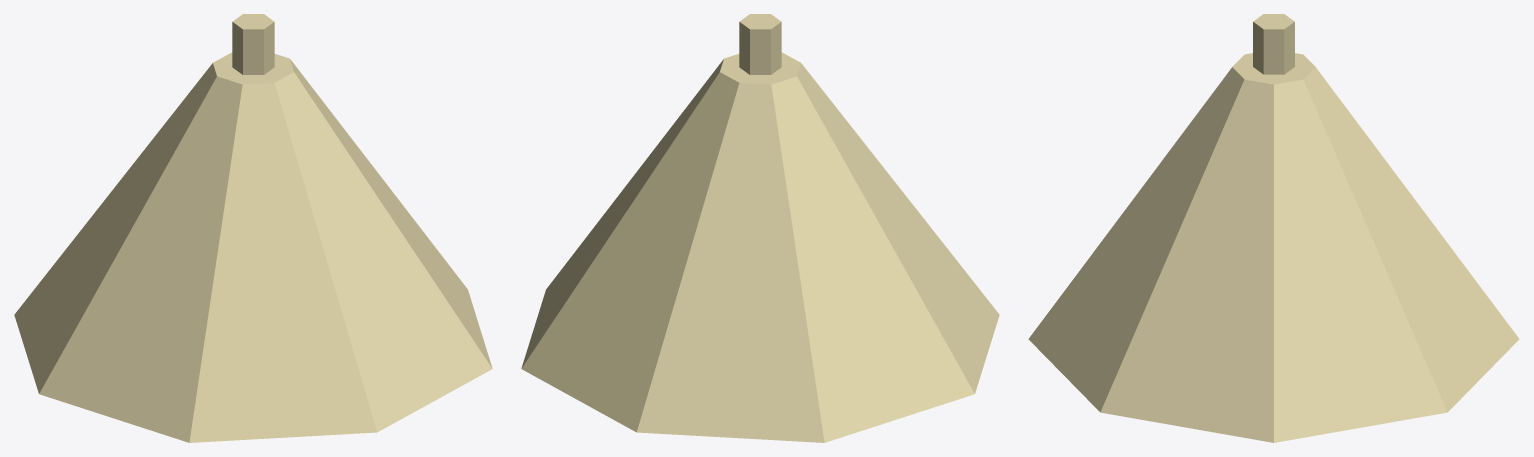
The model's file is bell.glb.
The picture shows the model from 3 angles, left to right: view 1: azimuth 30°, elevation 25°; view 2: azimuth 150°, elevation 25°; view 3: azimuth 270°, elevation 25°; orthographic projection.
Parts seen in each view (by area): view 1: bell, crown; view 2: bell, crown; view 3: bell, crown.
Part boxes in pixels (left/top/right/bottom): bell: left=14, top=52, right=492, bottom=442; crown: left=232, top=14, right=274, bottom=74; bell: left=521, top=52, right=999, bottom=442; crown: left=739, top=14, right=781, bottom=74; bell: left=1028, top=53, right=1519, bottom=442; crown: left=1253, top=14, right=1294, bottom=74.
Size of the model in its own units: 1.18 by 0.84 by 1.18.
